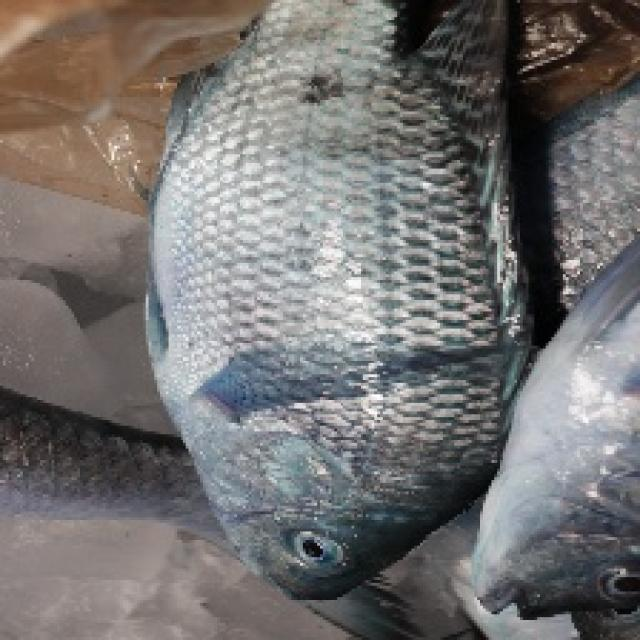Fresh: (149, 159, 512, 527), (284, 523, 354, 576)
